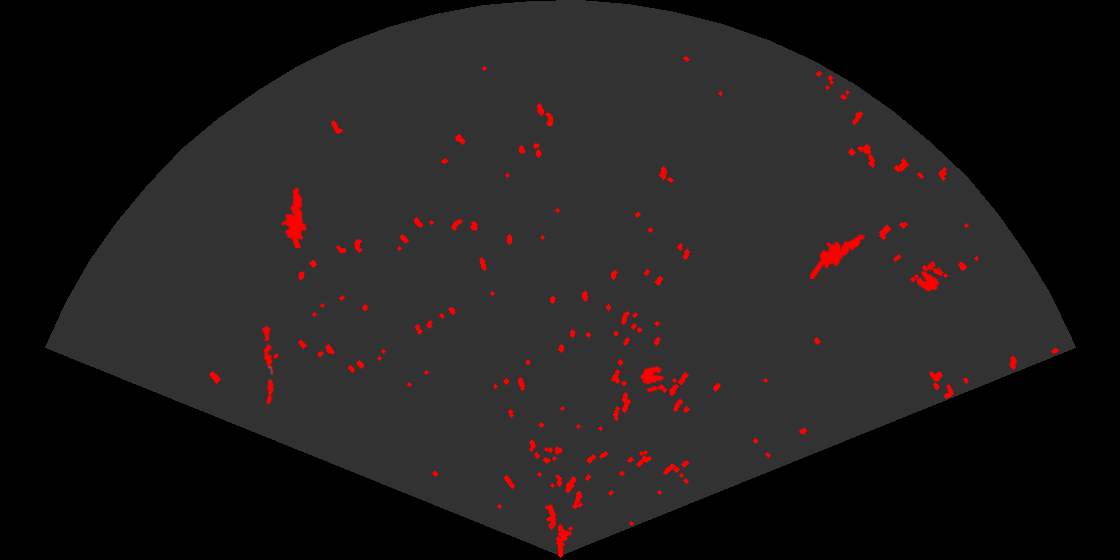ball: (915, 263, 944, 293), (639, 365, 666, 394)
chain: (261, 324, 276, 406)
frogman: (810, 232, 867, 279), (279, 186, 308, 248)
